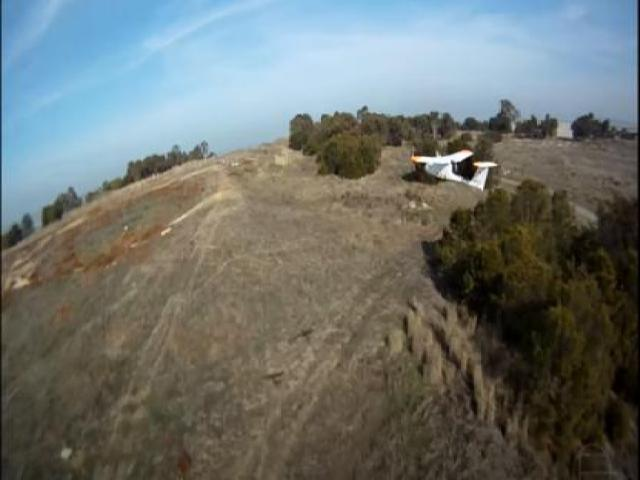uav: (407, 139, 498, 199)
